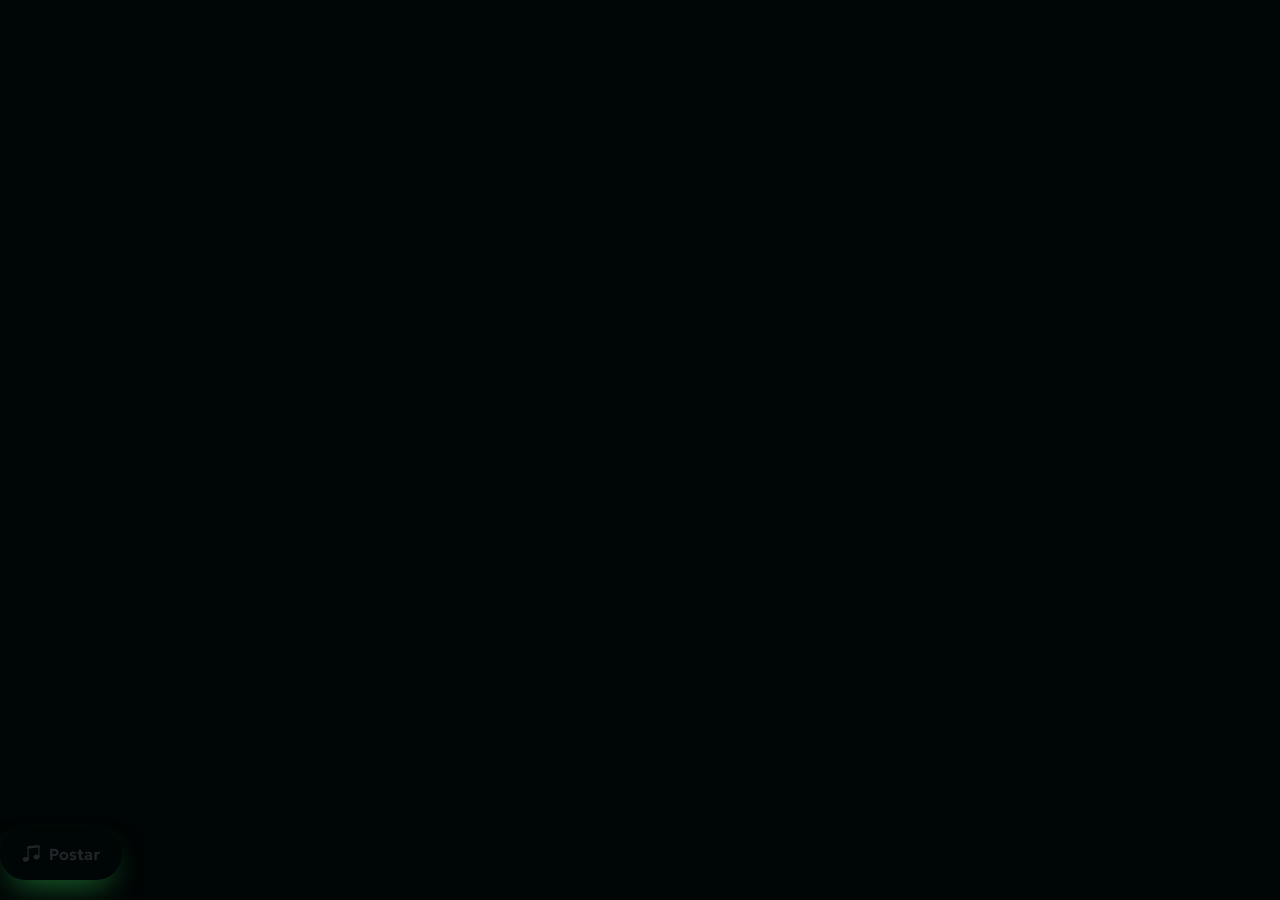
Scenario: CreatePost › conta os caracteres do texto
The image size is (1280, 900).
Click the button with aria-label "Criar post".
click(61, 854)  # box [0,828,122,880]
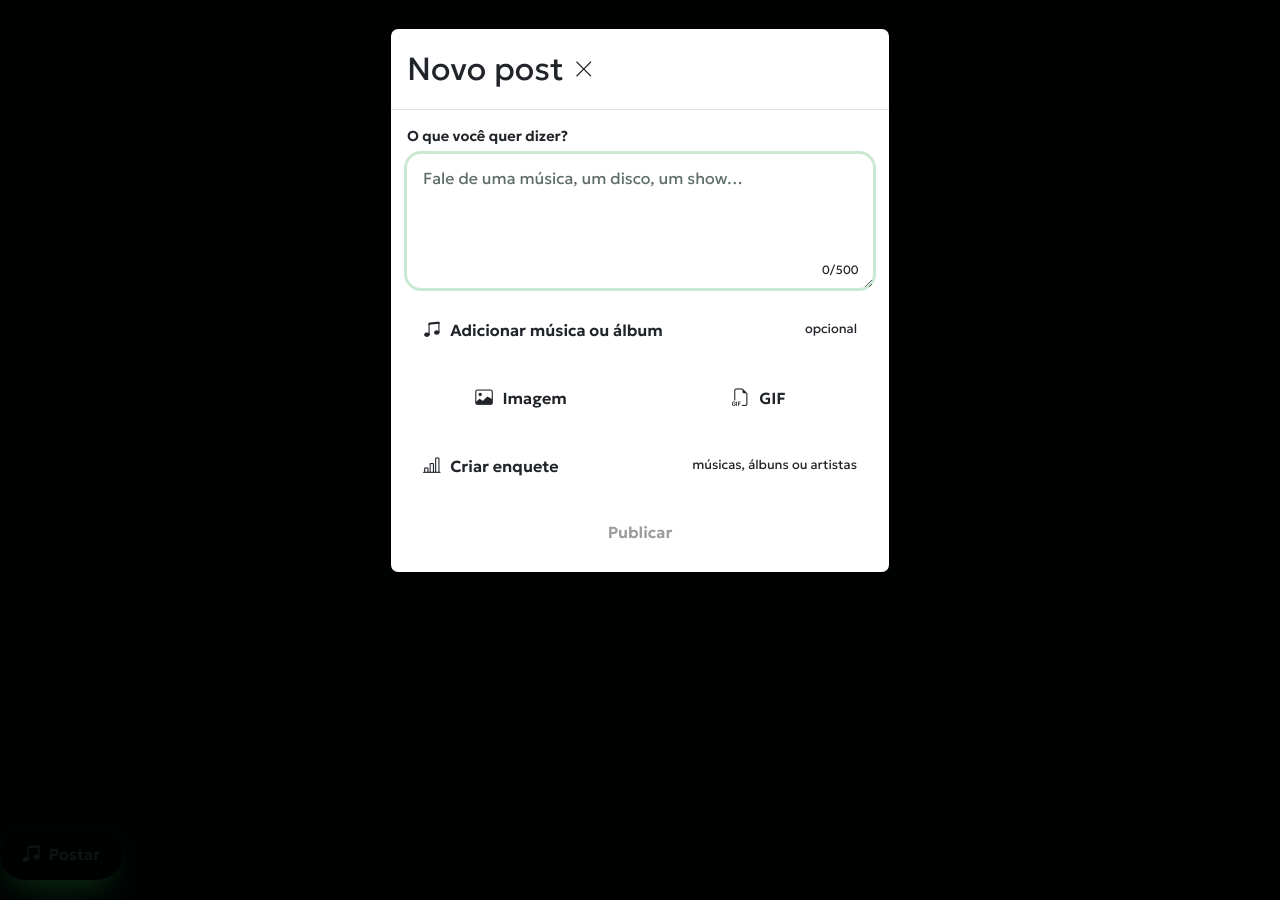
Type "clássico" into the text box labelled "O que você quer dizer?".
click(640, 221); type("clássico")  # box [407,154,873,288]
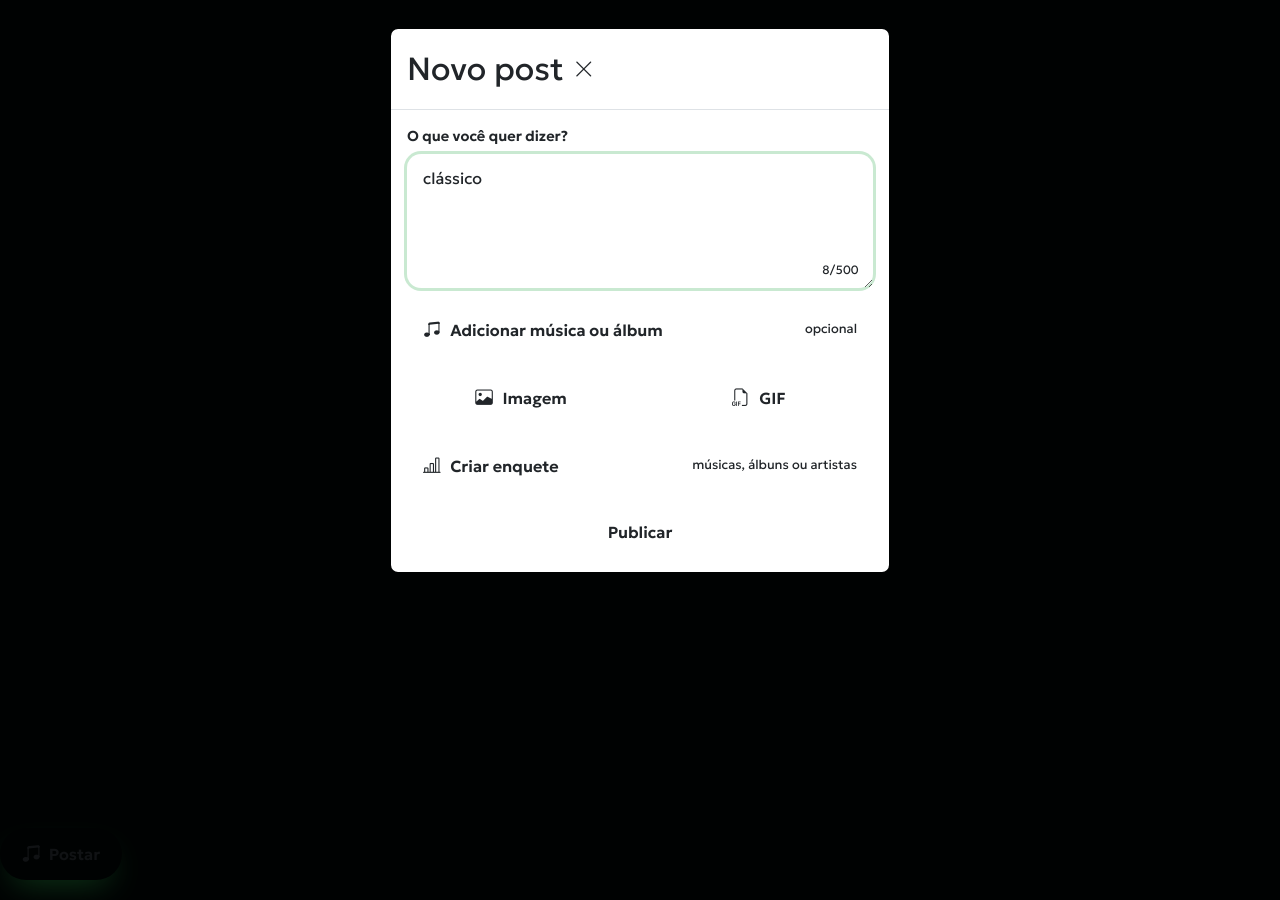
Check: the text "8/500" is shown, box [822,261,859,279]
